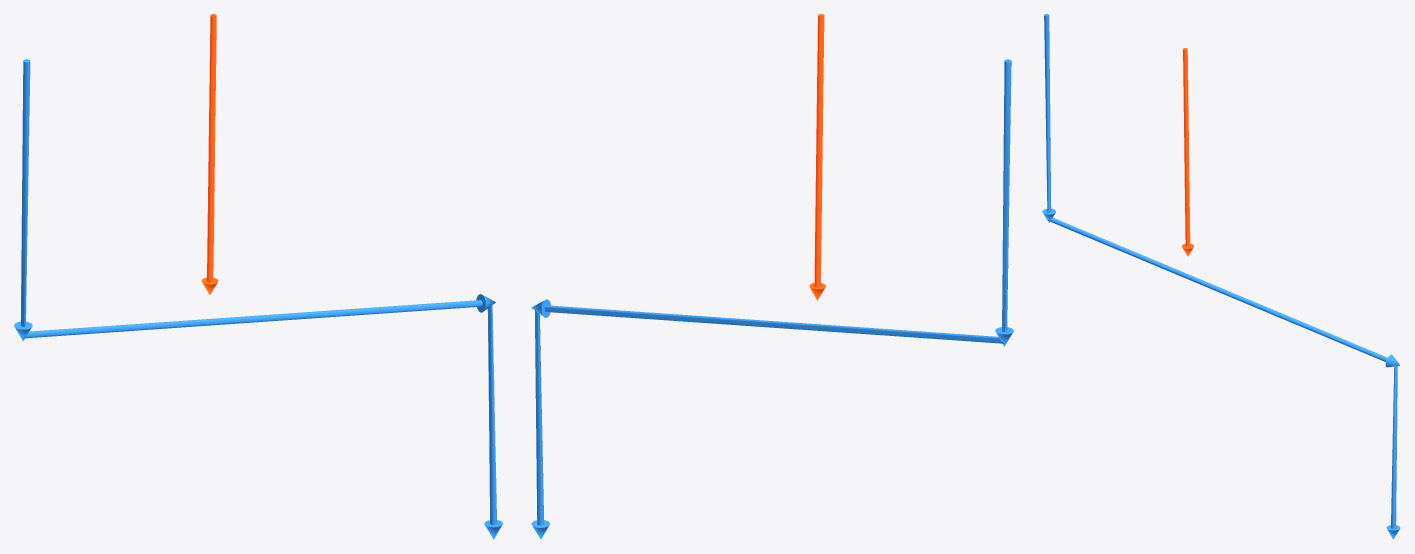
Rendered from boiler_feedwater_tank_flow.glb.
3 views of the same model, side by side, from view 1: azimuth 30°, elevation 25°; view 2: azimuth 150°, elevation 25°; view 3: azimuth 330°, elevation 25° (orthographic). The views are drawn at different scales.
Parts seen in each view (by area): view 1: makeup, condensate_return; view 2: makeup, condensate_return; view 3: makeup, condensate_return.
Part boxes in pixels (x1,y1,x2,y2): makeup: (14, 59, 502, 539); condensate_return: (201, 14, 218, 294); makeup: (531, 59, 1013, 539); condensate_return: (809, 14, 825, 300); makeup: (1042, 14, 1400, 539); condensate_return: (1181, 48, 1193, 256).
Size of the model in its own units: 1.55 by 1.82 by 0.0711.
